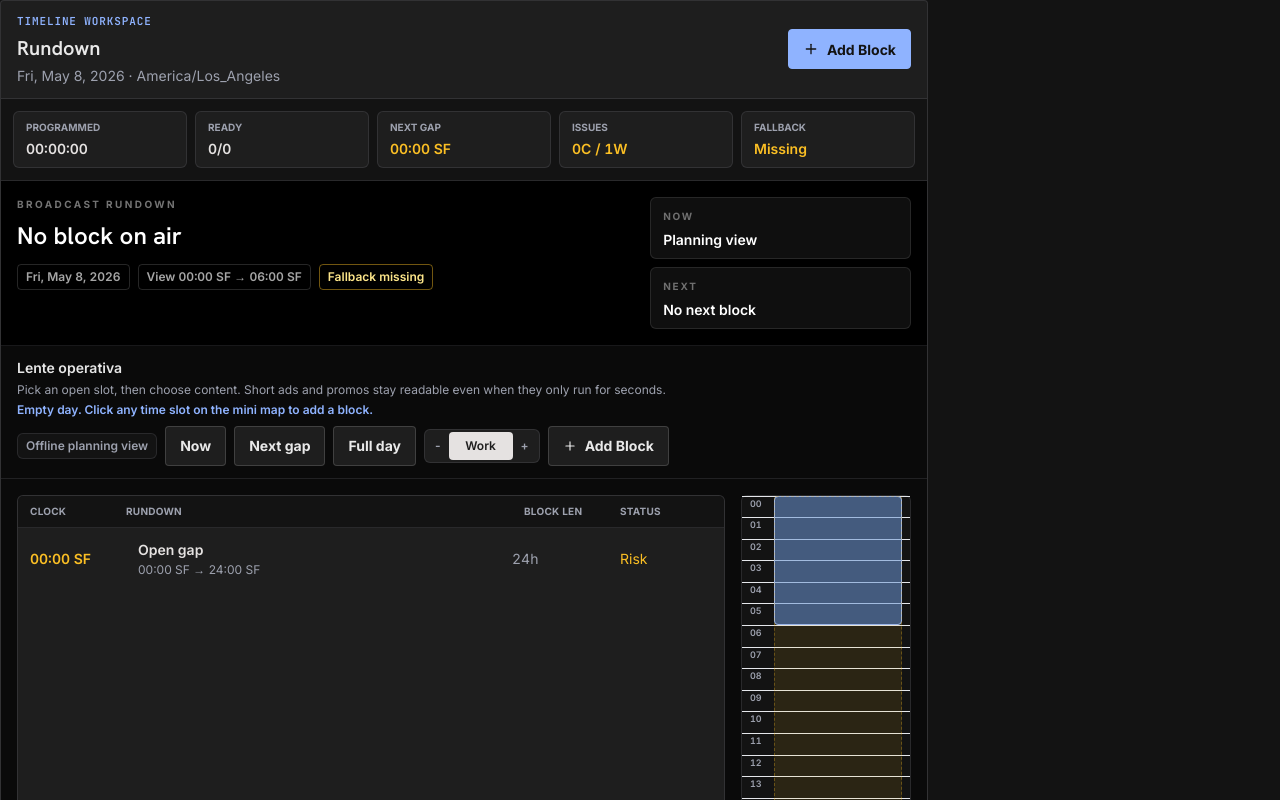
Test case: ScheduleWorkspace › offers human duration presets for short ads and long shows
This screenshot has width=1280, height=800.
Click the button "Add Block" in the row of "America/Los_Angeles": (849, 49) [788,29,911,69]
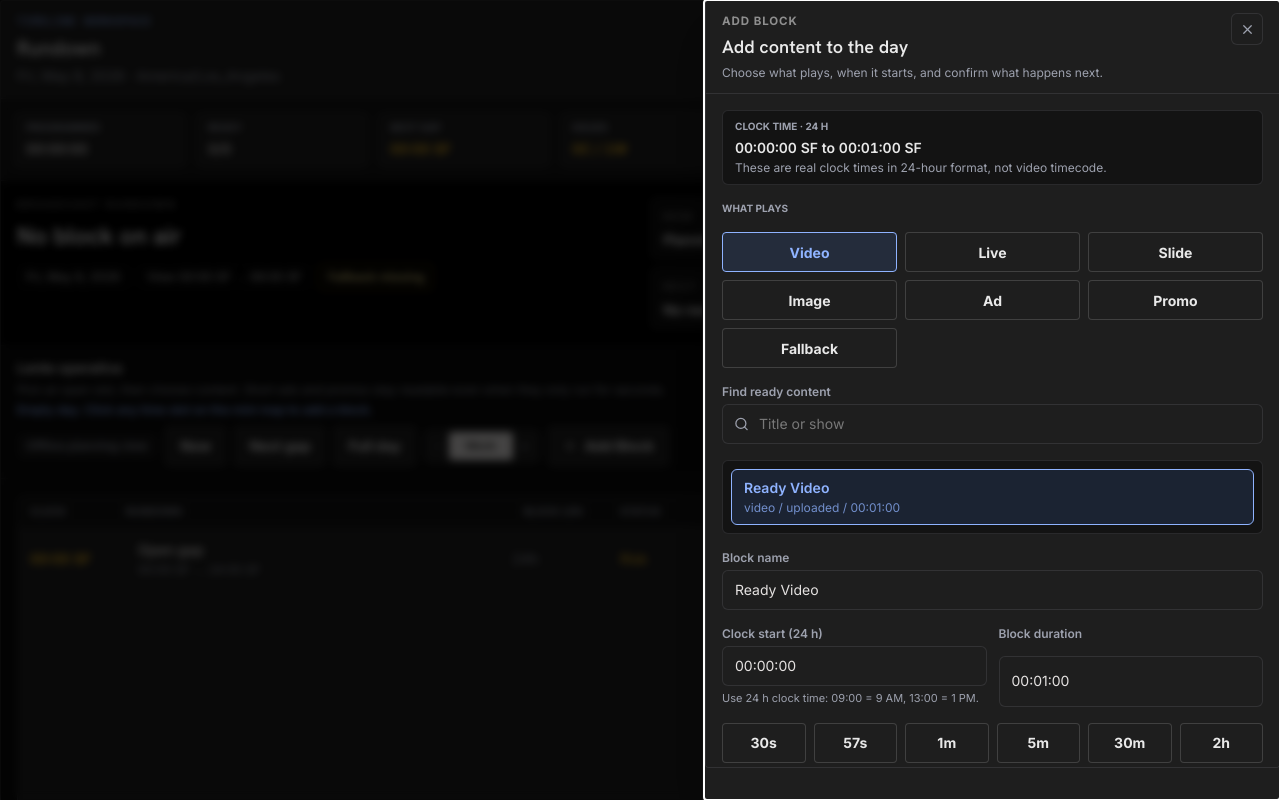
Click the button "2h": (1221, 742) [1180,722,1263,762]
(page scrolled)
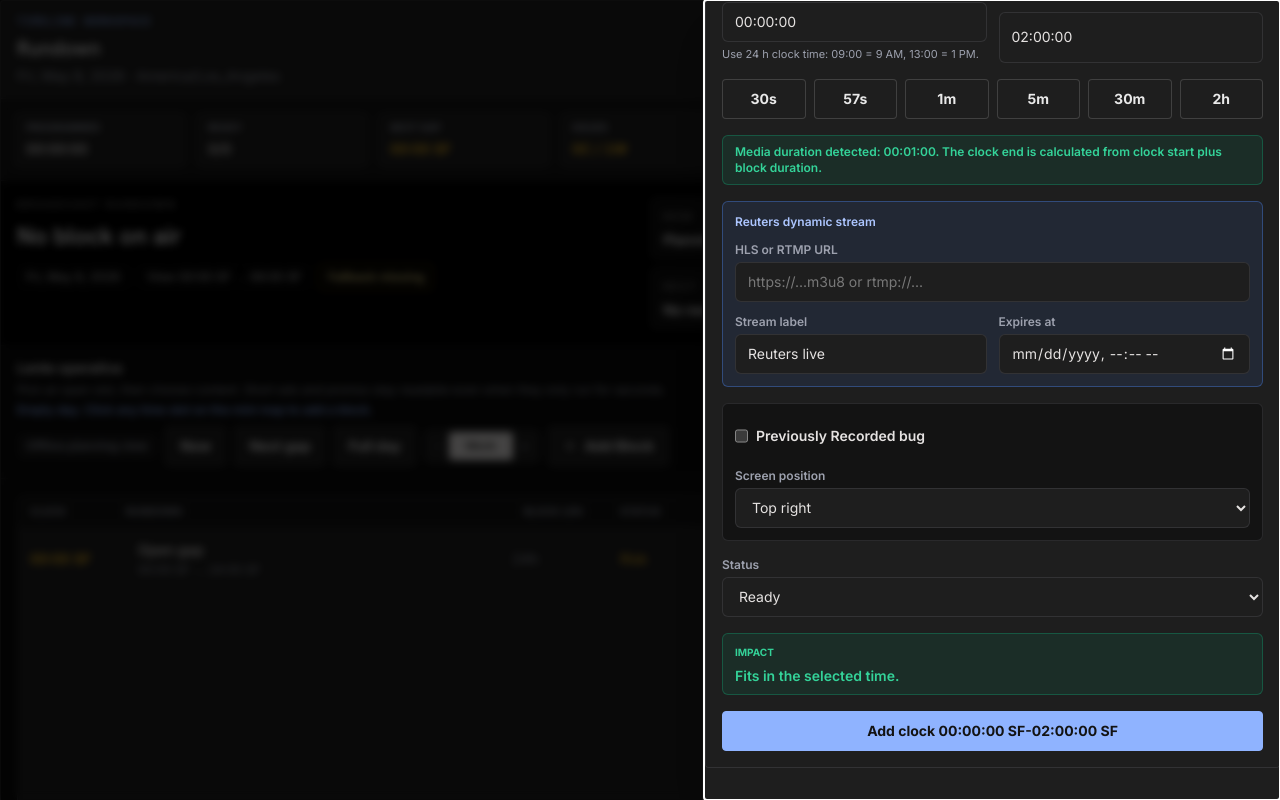
expect the button "Add clock 00:00:00 SF-02:00:00 SF" is enabled: met, box [722,710,1263,750]
